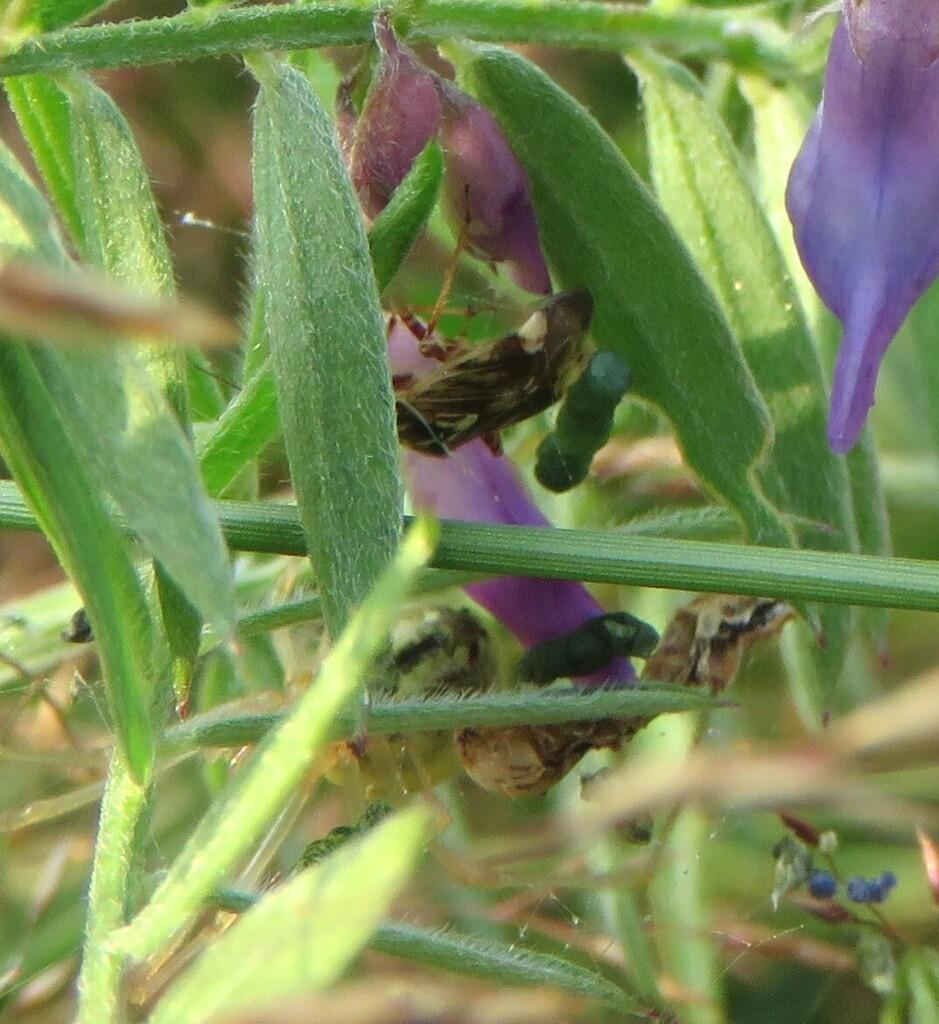plant_bugs: (322, 244, 638, 493)
